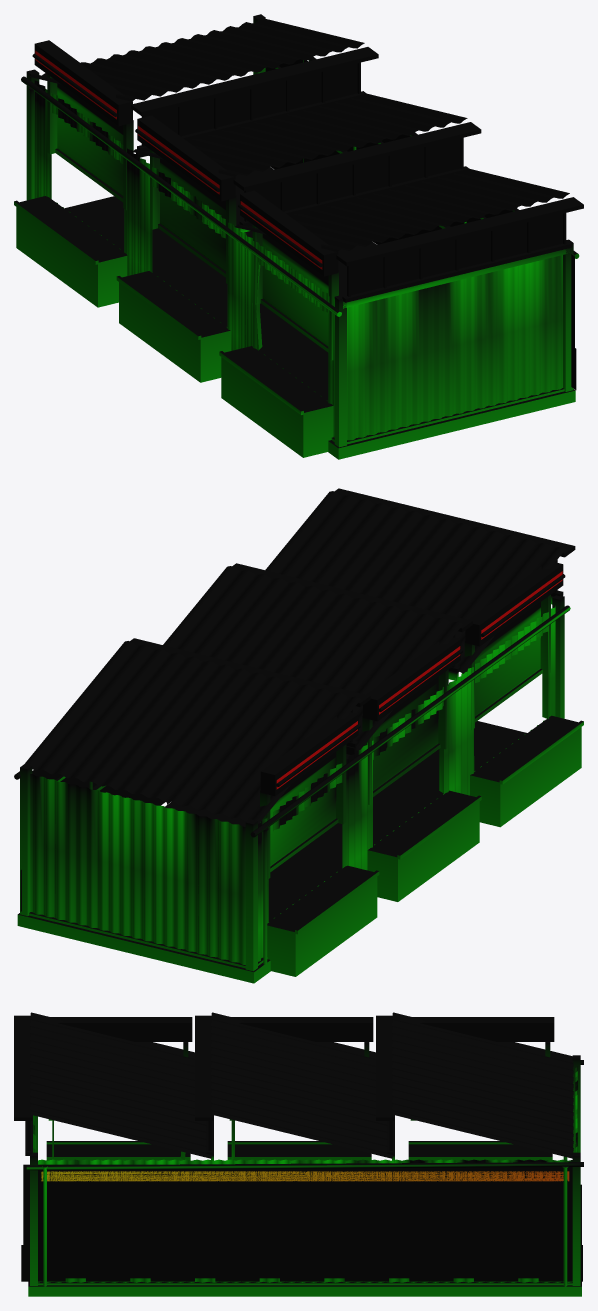
The model's file is civstorageb.glb.
The picture shows the model from 3 angles, top to bottom: view 1: azimuth 30°, elevation 25°; view 2: azimuth 150°, elevation 25°; view 3: azimuth 270°, elevation 25°; orthographic projection. The views are drawn at different scales.
Visible parts, largest first — view 1: lod0; view 2: lod0; view 3: lod0.
Part boxes in pixels (bbox=[...]): lod0: bbox=[14, 14, 583, 459]; lod0: bbox=[14, 488, 583, 983]; lod0: bbox=[14, 1012, 583, 1296].
Size of what is drawn, in the model's own units: 7.42 by 5.49 by 15.43.
